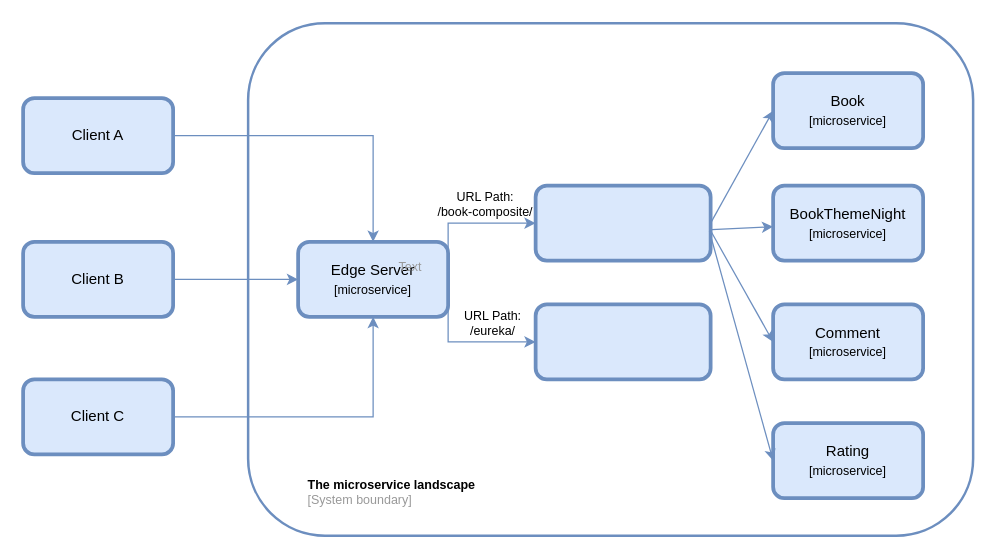
Image size: 996x558. Some labels were removed from this diagram. Here are the shapes that lost their labels. From the top down, the box of each, then its label:
(533, 183, 712, 262): Book Composite [microservice]
(533, 302, 712, 381): Discovery Server (Netflix Eureka)
